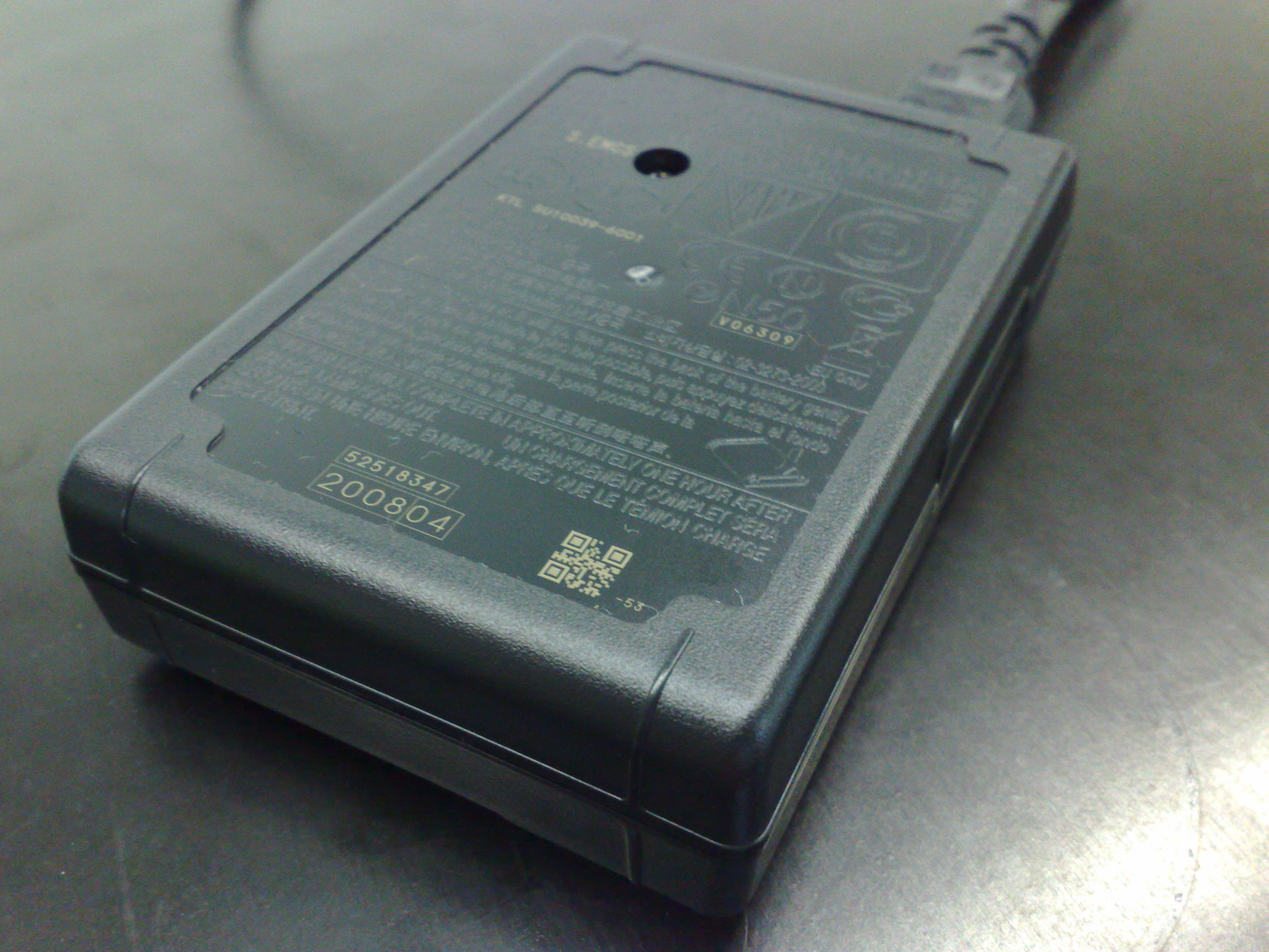QR-CODE: (536, 530, 634, 600)
